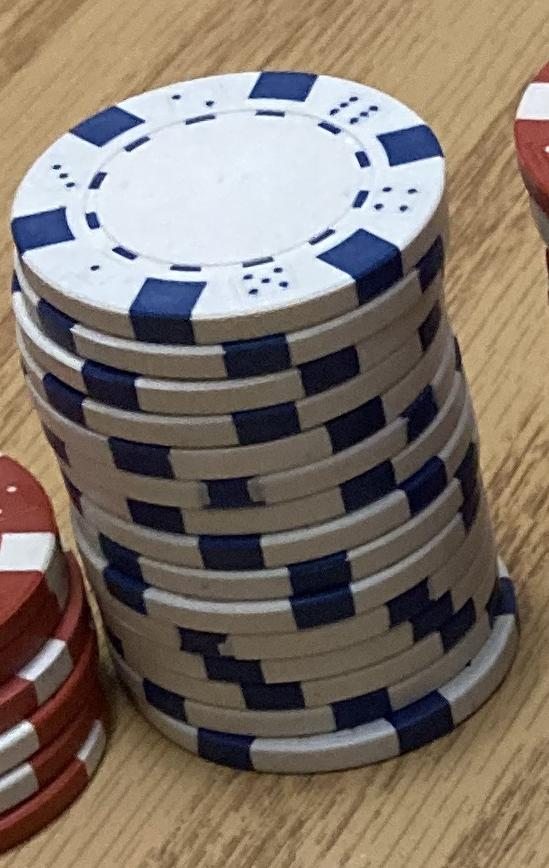Chip: (1, 1, 549, 868)
